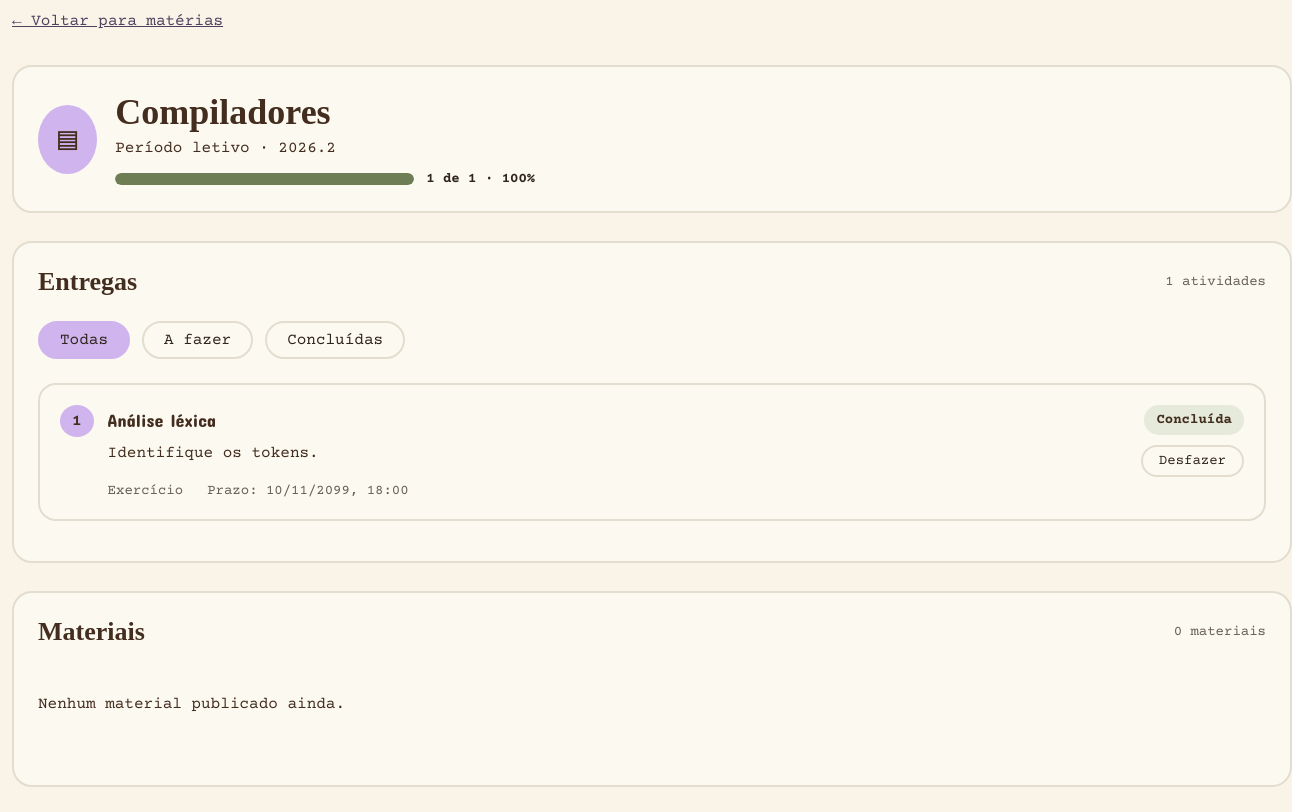
Concluir e desfazer uma entrega › desfaz a conclusão enviando A_FAZER
Click the button with aria-label "Desfazer conclusão de Análise léxica" at {"x": 1192, "y": 461}, box 1141,445 -> 1244,477
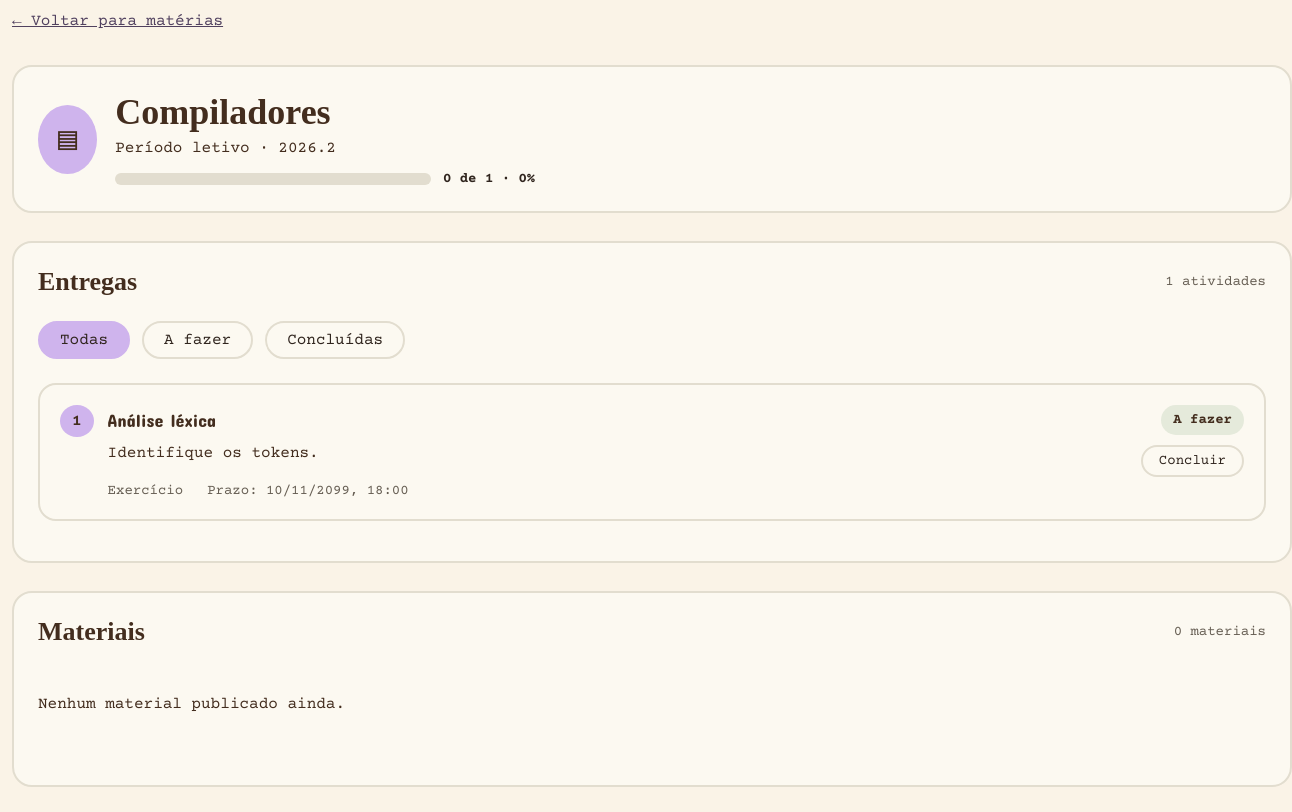
Check: the text "A fazer" is shown, box 1161,405 -> 1244,435
